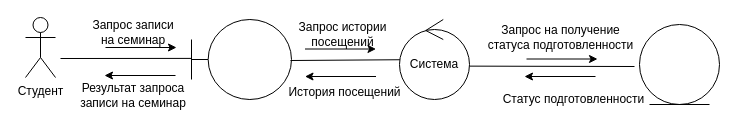
The diagram is 737 pixels wide and 132 high, and some of its shapes have lost their labels. Here are the shapes that lost their labels. From the top down, the box of each, then its label:
(190, 18, 292, 100): Интерфейс
(638, 24, 720, 104): Слушатель
